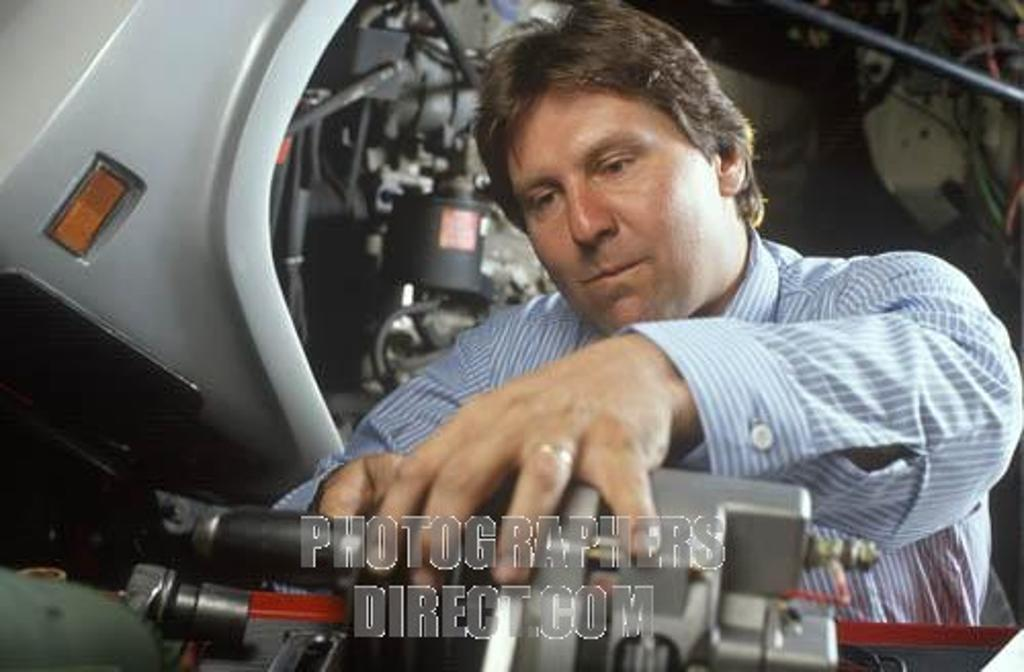face: (518, 92, 678, 324)
